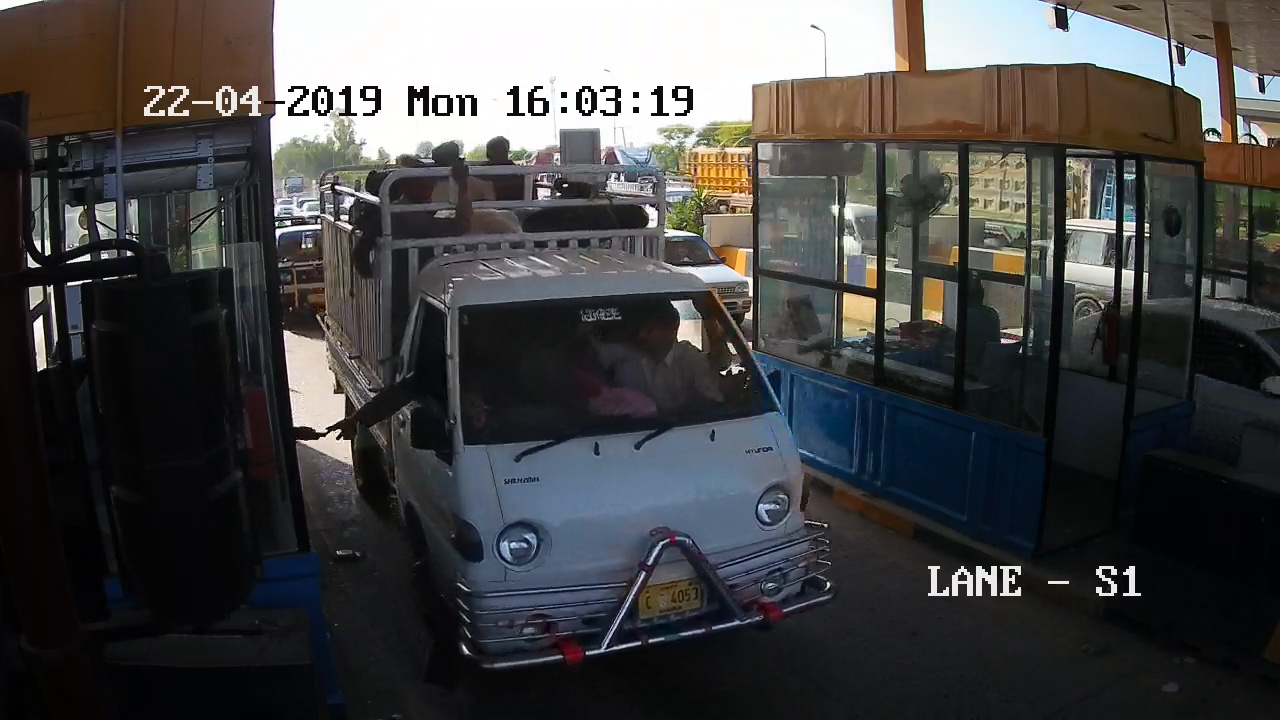Number Plate (Car): (638, 580, 709, 617)
